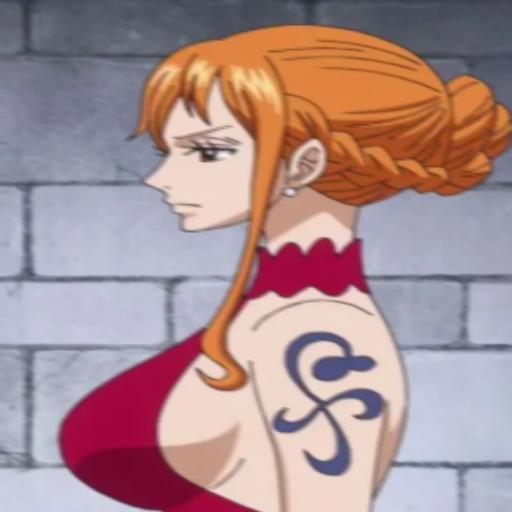Nami: (63, 21, 512, 512)
